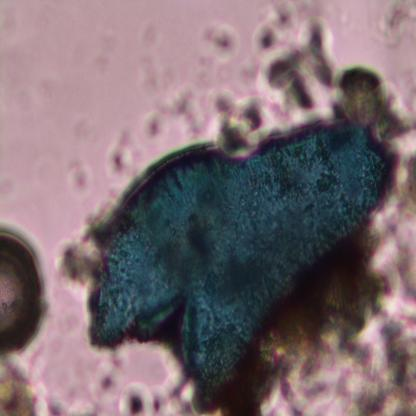Background material: (282, 252, 386, 366), (254, 1, 340, 113), (339, 310, 416, 416), (245, 332, 338, 412), (334, 63, 416, 139), (213, 89, 271, 156), (143, 84, 207, 136), (0, 353, 53, 415), (119, 372, 190, 414), (54, 233, 102, 289), (392, 152, 416, 246), (370, 0, 416, 48), (137, 21, 170, 82), (65, 146, 96, 202), (199, 23, 240, 61), (111, 133, 143, 179), (93, 368, 122, 401)
Diatom: (0, 226, 44, 354)
Fragment: (86, 120, 389, 393)
